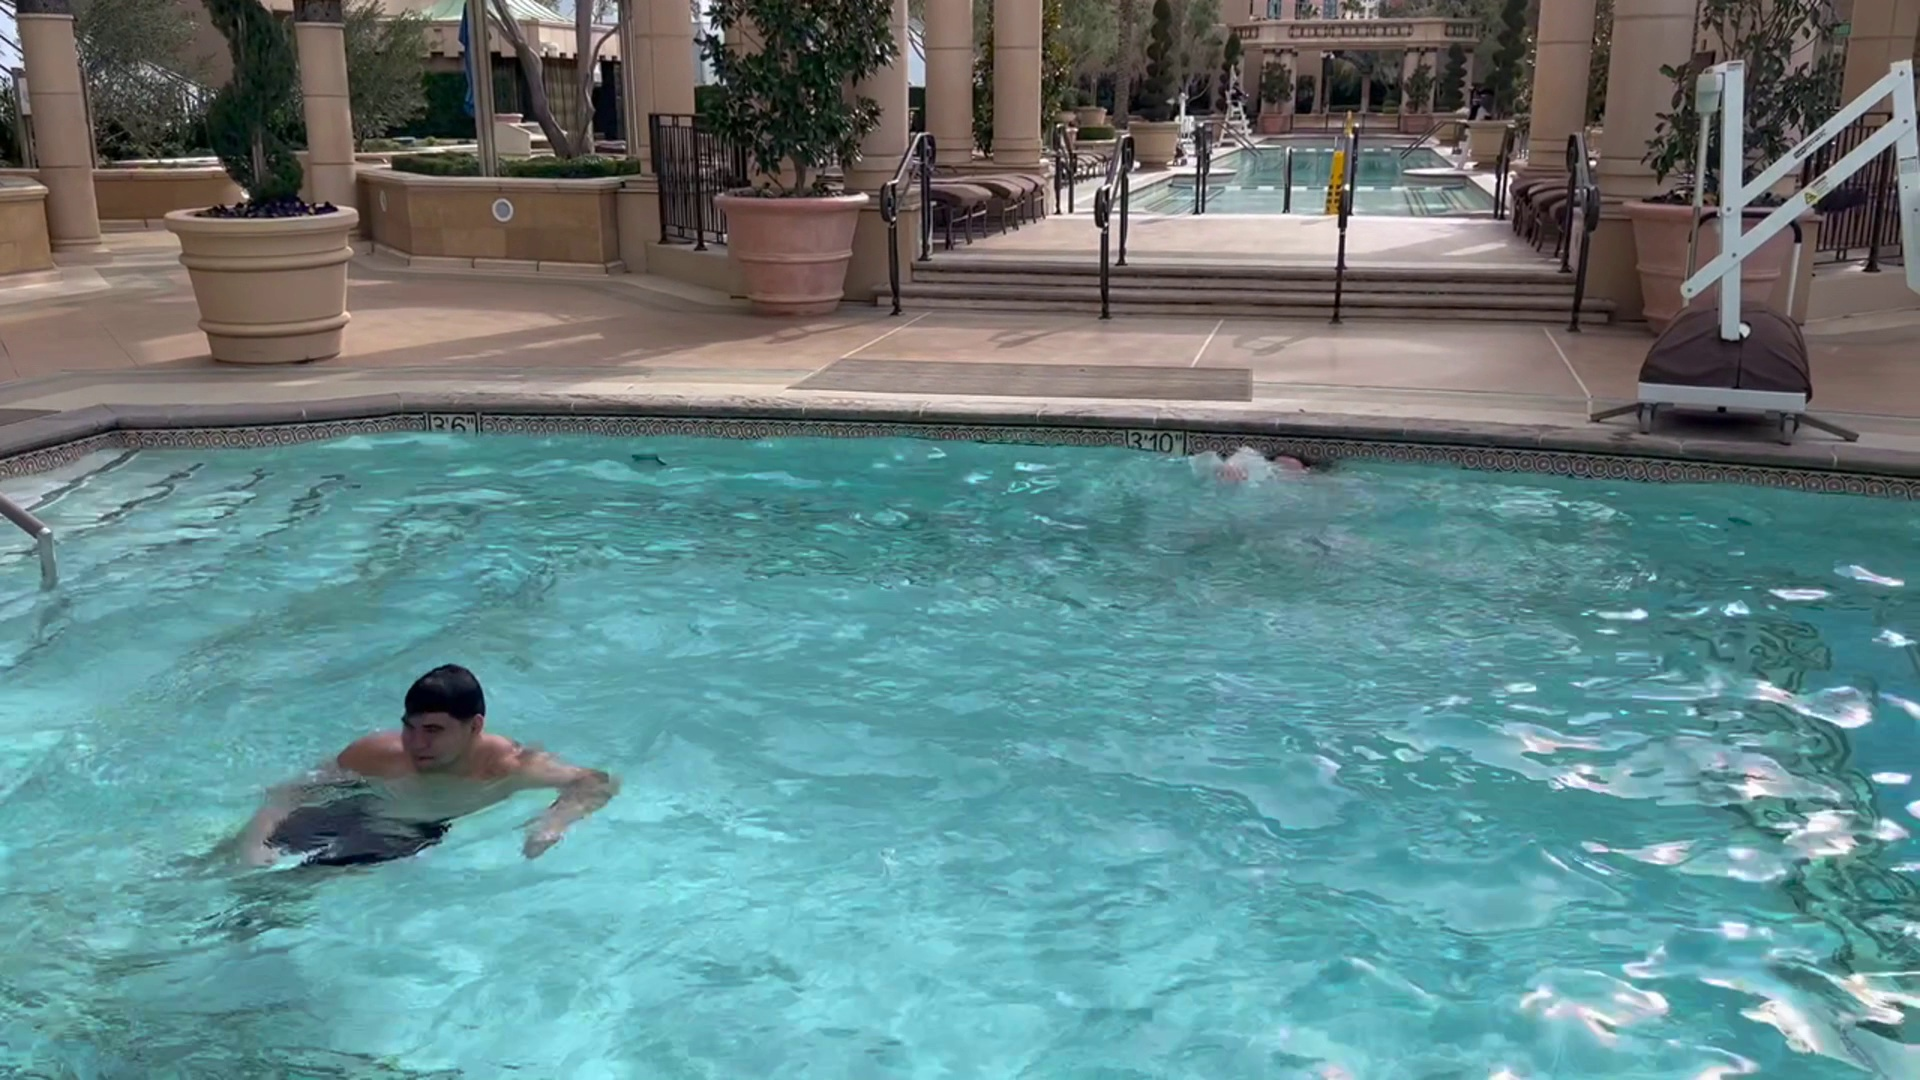danger: (1160, 409, 1342, 520)
